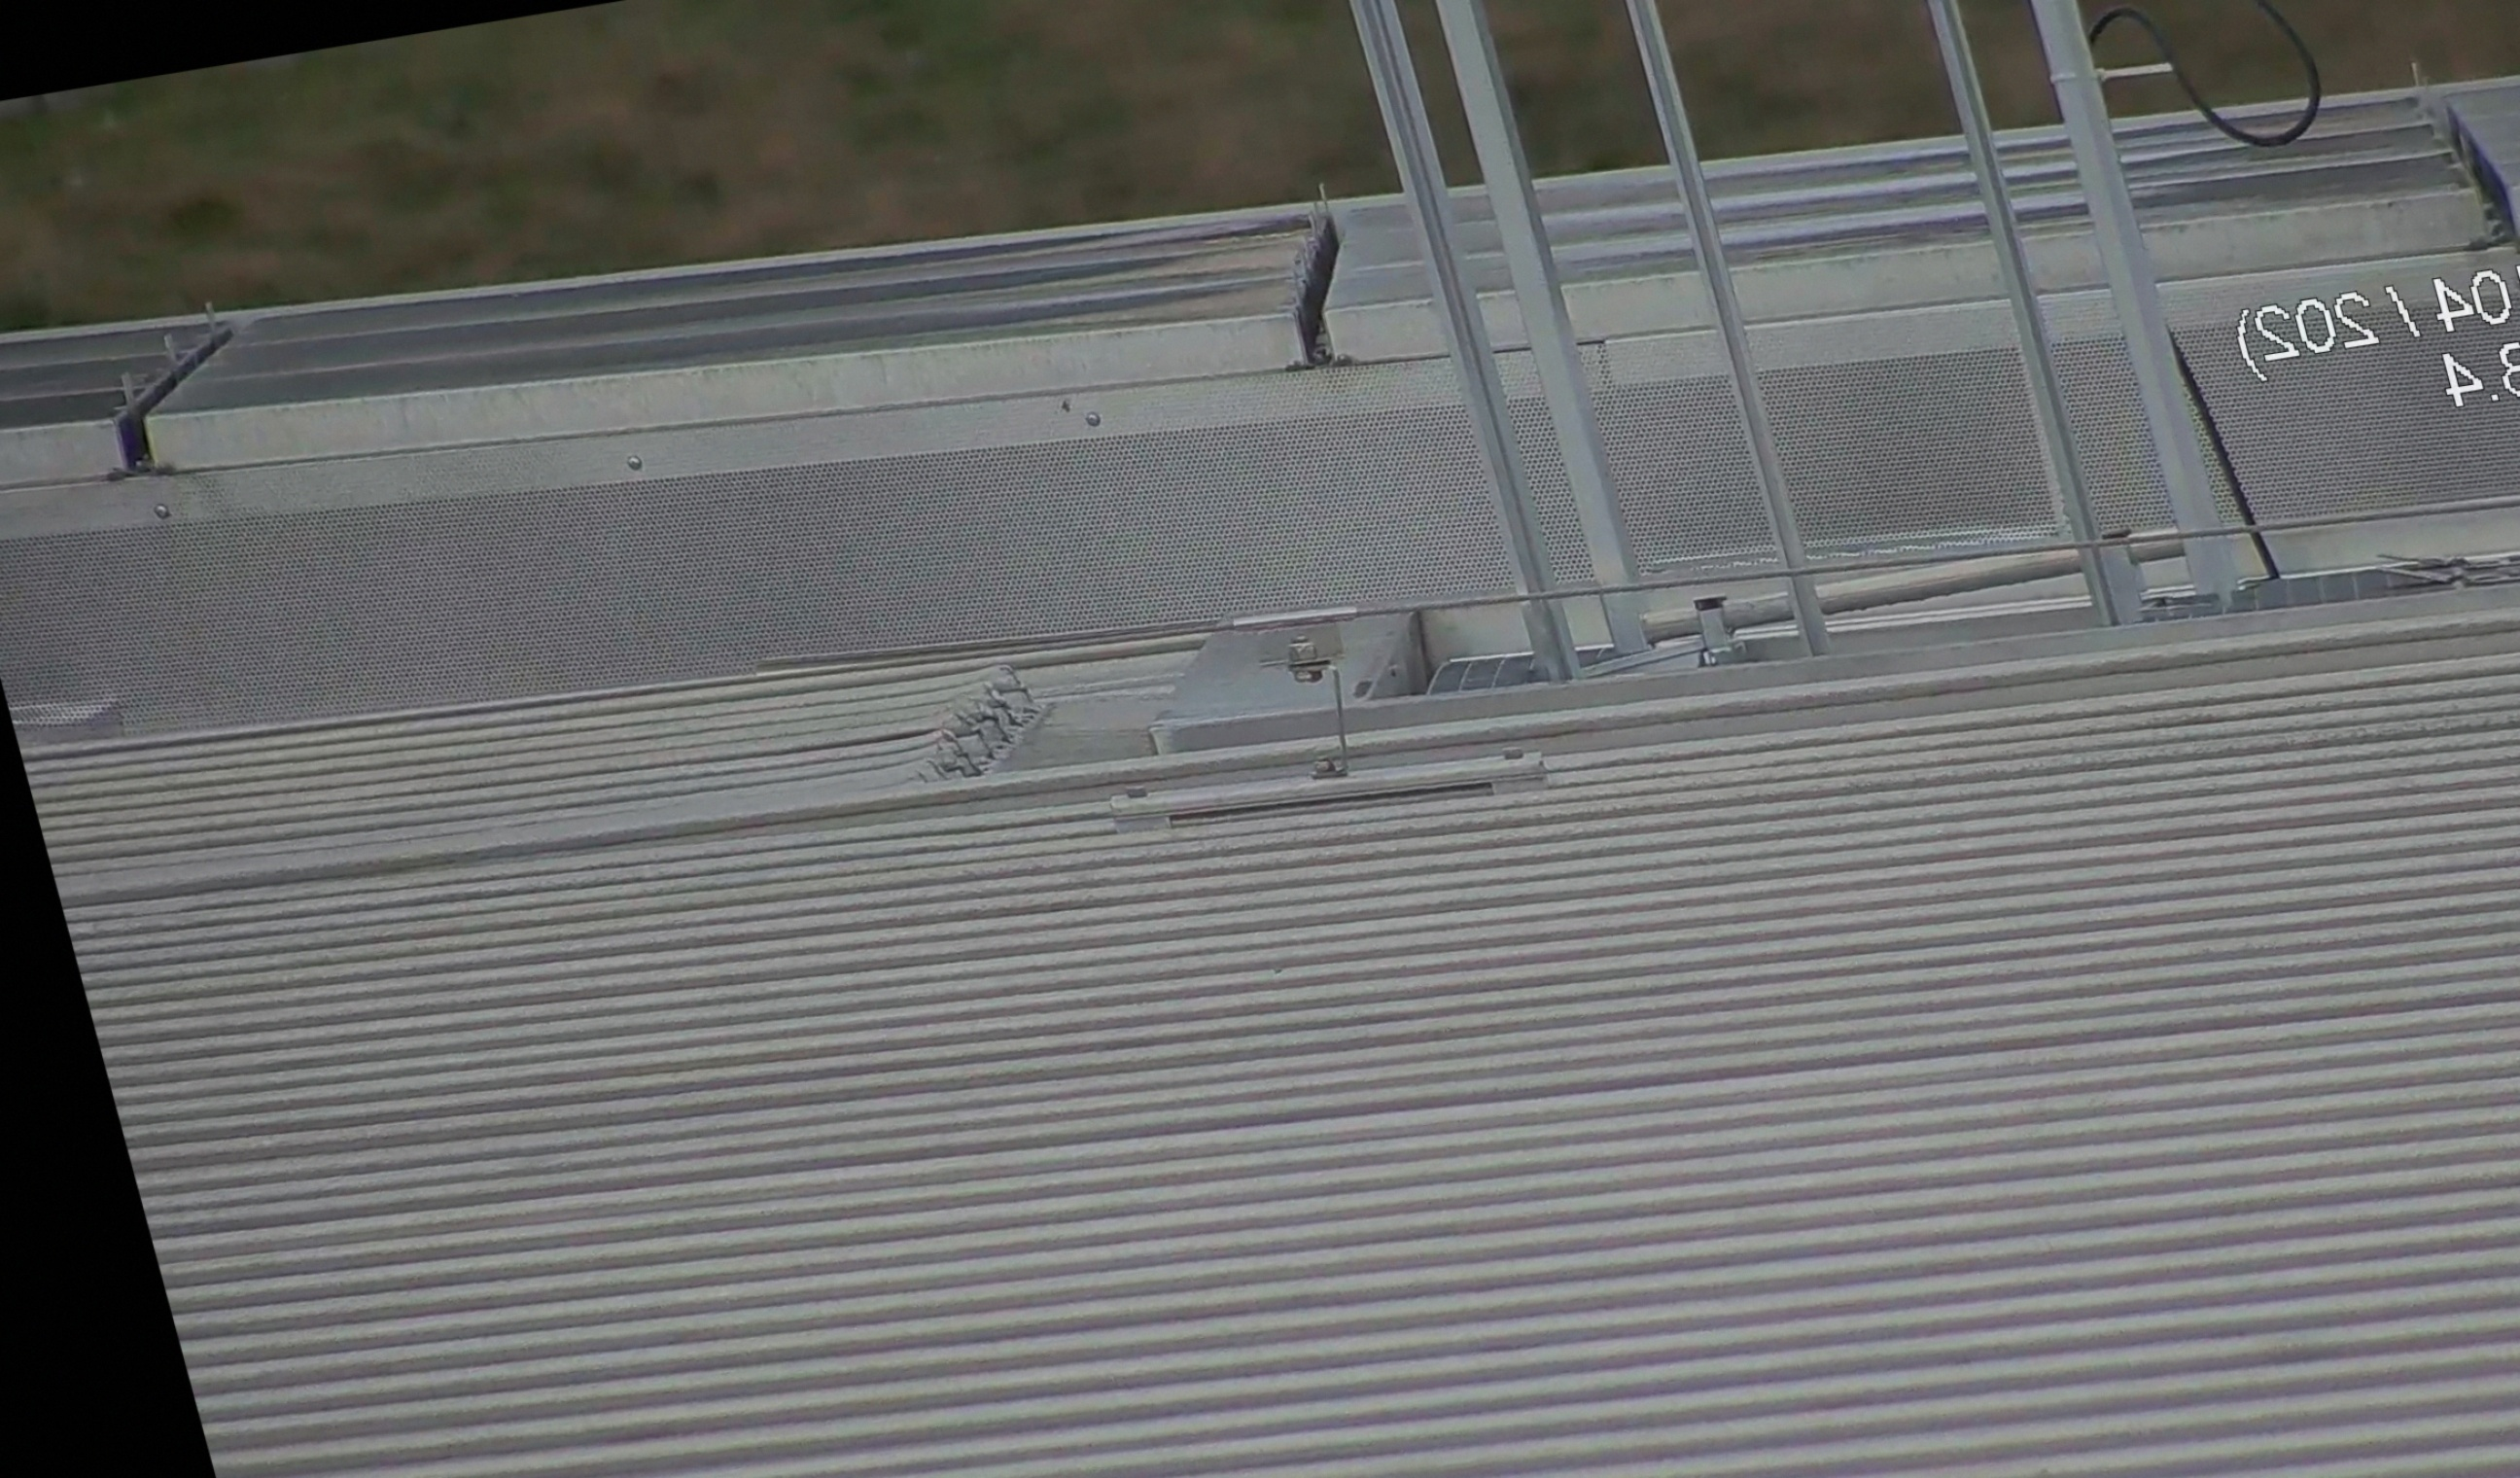Other: (1231, 171, 1391, 373)
